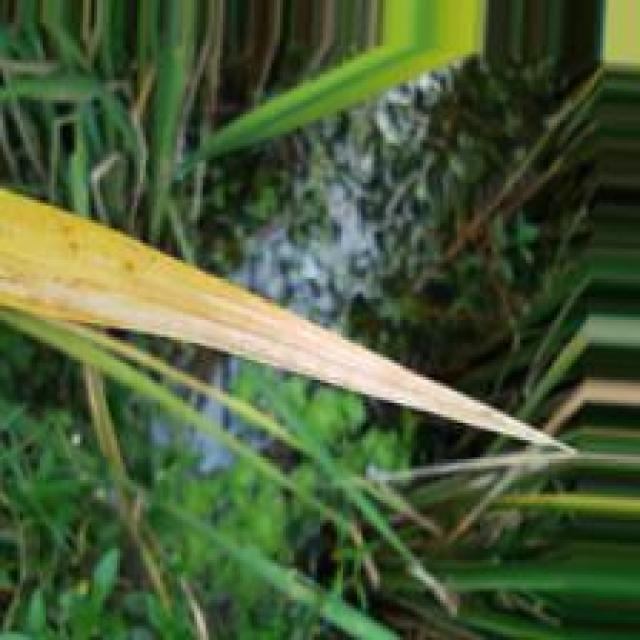Bacterial_Leaf_Blight: (1, 191, 459, 417)
